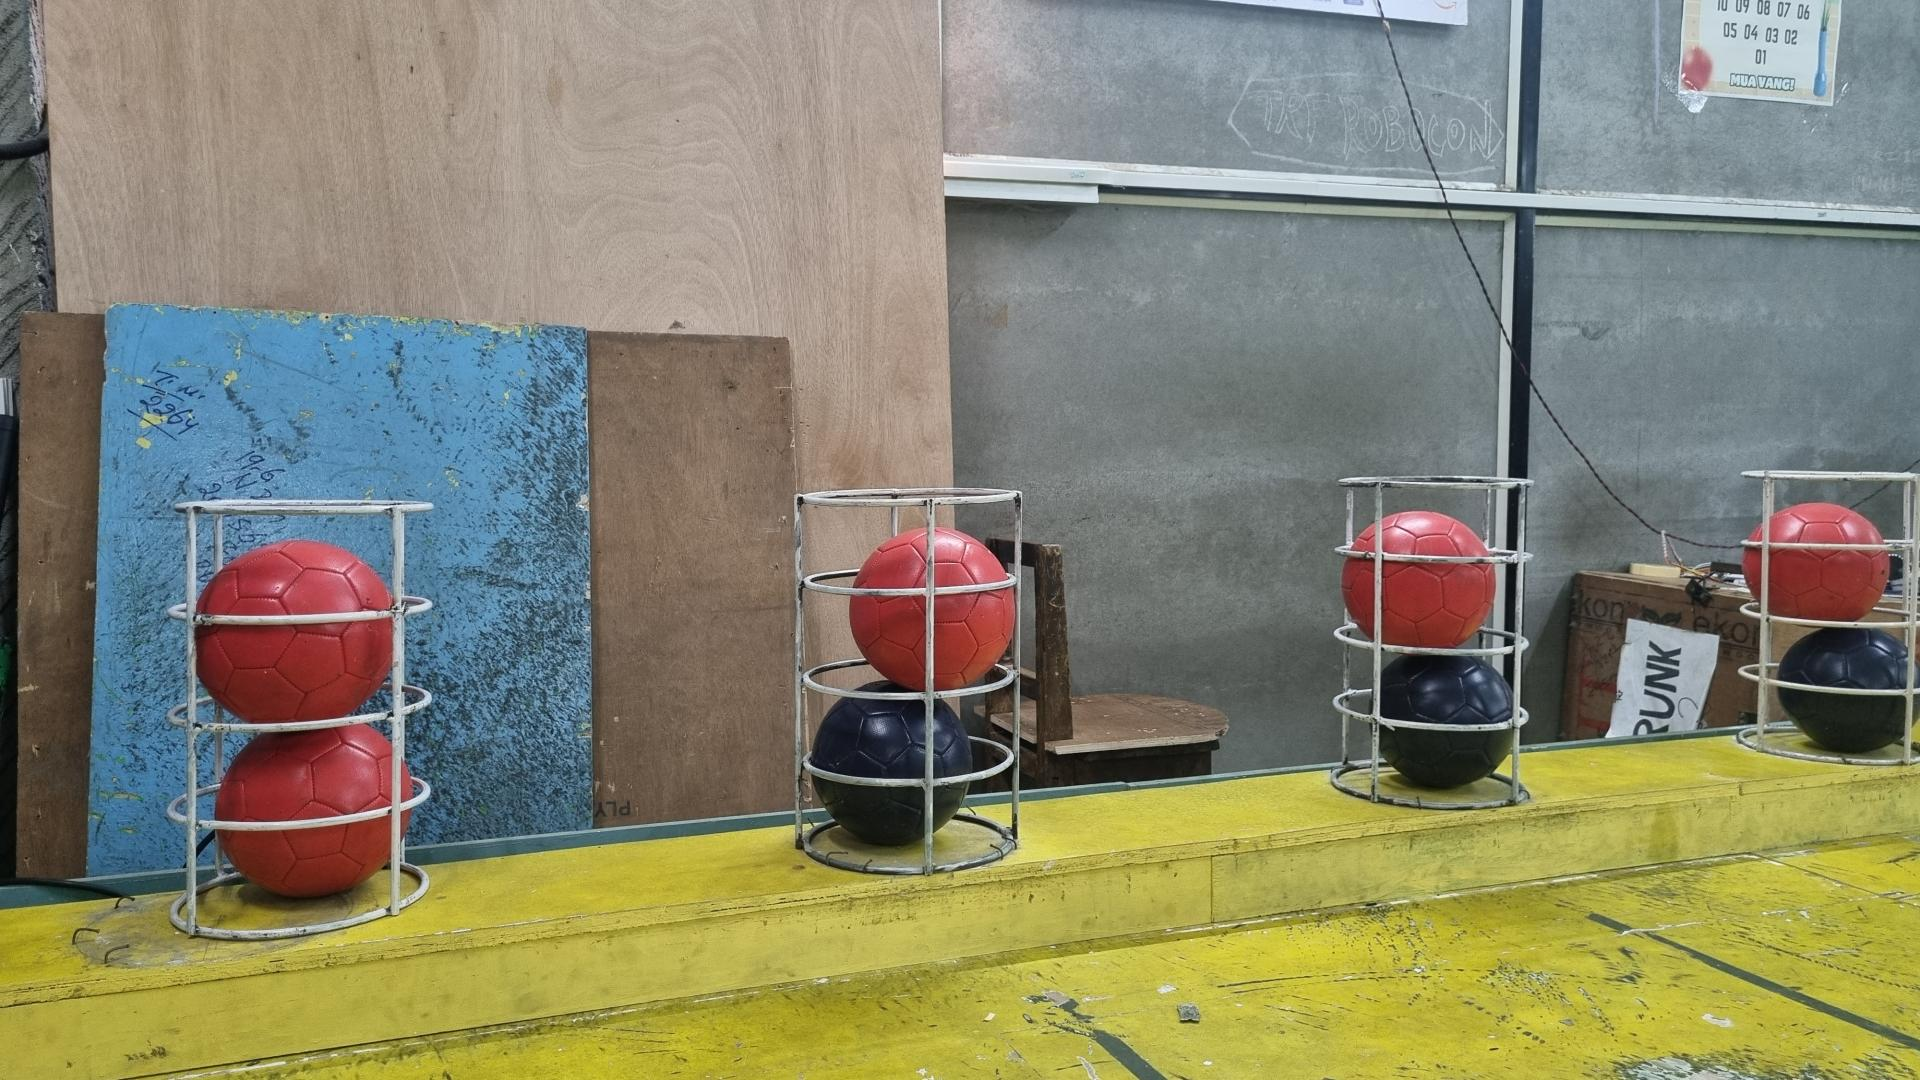dhoka: (810, 682, 975, 847), (1377, 655, 1515, 790), (1778, 629, 1920, 753)
laale: (195, 539, 394, 723), (214, 723, 417, 899), (848, 529, 1017, 694), (1342, 509, 1497, 649), (1743, 502, 1890, 622)
